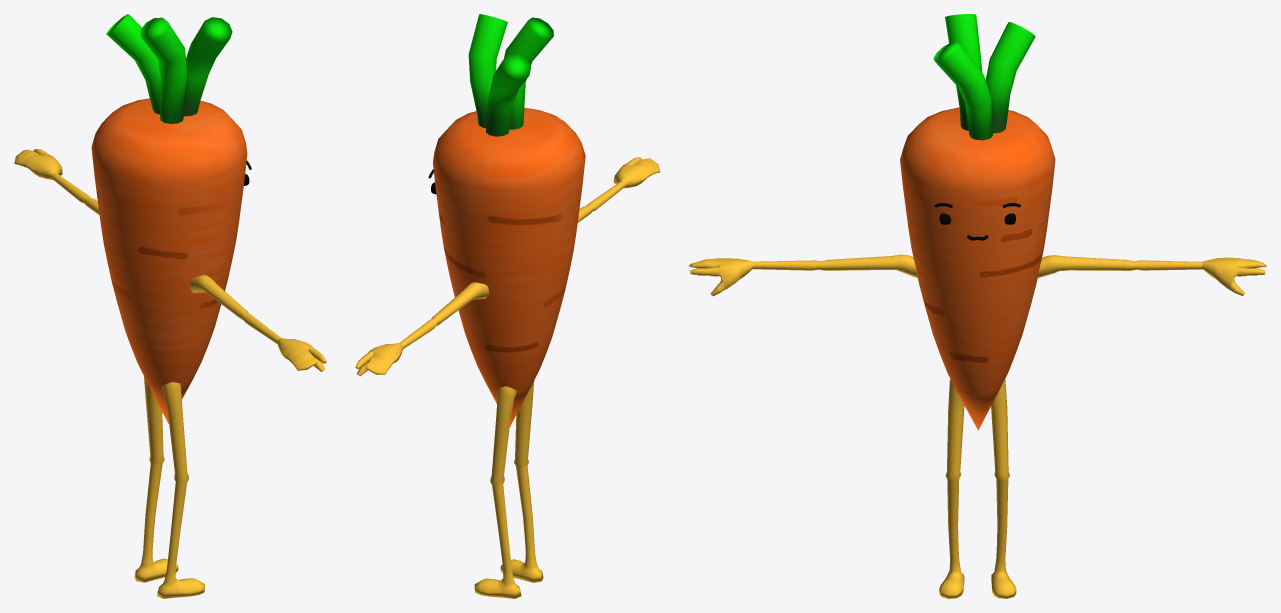
The model's file is Carrot Character.glb.
The picture shows the model from 3 angles, left to right: view 1: azimuth 30°, elevation 25°; view 2: azimuth 150°, elevation 25°; view 3: azimuth 270°, elevation 25°; orthographic projection. The views are drawn at different scales.
Parts seen in each view (by area): view 1: mesh_char_129_1; view 2: mesh_char_129_1; view 3: mesh_char_129_1.
Part boxes in pixels (left/top/right/bottom): mesh_char_129_1: left=14, top=14, right=326, bottom=598; mesh_char_129_1: left=355, top=14, right=660, bottom=598; mesh_char_129_1: left=689, top=14, right=1266, bottom=598.
Bounding box in the file's own units: 1.43 × 5.76 × 5.31.
Materials: 1 (1 with a texture image).
